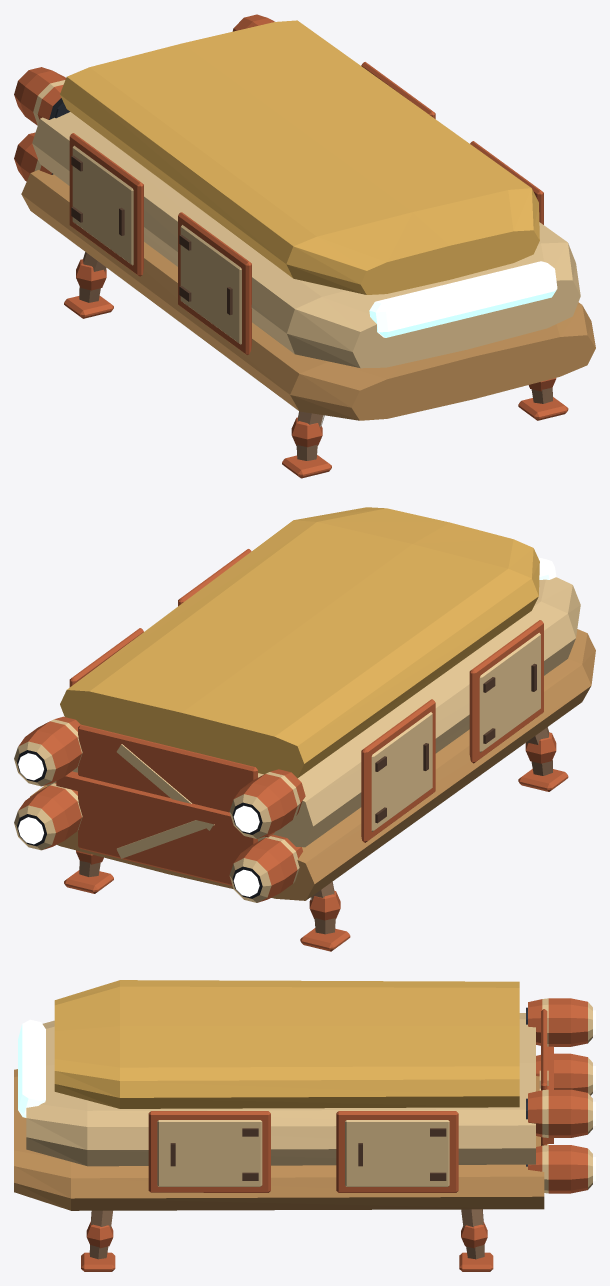
Rendered from dun-f_gelandet.glb.
The picture shows the model from 3 angles, top to bottom: view 1: azimuth 30°, elevation 25°; view 2: azimuth 150°, elevation 25°; view 3: azimuth 270°, elevation 25°; orthographic projection. The views are drawn at different scales.
Visible parts, largest first — view 1: rumpf_oben, rumpf_mitte, rumpf_unten, frachttür_4, cockpit, frachttür_3, triebwerk_2, landebein_2, landebein_4, landebein_1, triebwerk_4; view 2: rumpf_oben, rampe, rumpf_mitte, rumpf_unten, frachttür_4, frachttür_3, triebwerk_2, triebwerk_4, triebwerk_1, triebwerk_3, heckrahmen, landebein_4 (+3 smaller); view 3: rumpf_oben, rumpf_mitte, rumpf_unten, frachttür_1, frachttür_2, triebwerk_1, triebwerk_2, triebwerk_3, cockpit, landebein_3, landebein_1, triebwerk_4 (+1 smaller).
Part boxes in pixels (bbox=[...]): rumpf_oben: bbox=[60, 20, 539, 294]; rumpf_mitte: bbox=[32, 112, 580, 368]; rumpf_unten: bbox=[21, 170, 595, 420]; frachttür_4: bbox=[69, 133, 143, 276]; cockpit: bbox=[369, 261, 557, 337]; frachttür_3: bbox=[178, 212, 251, 354]; triebwerk_2: bbox=[14, 67, 69, 125]; landebein_2: bbox=[282, 411, 331, 478]; landebein_4: bbox=[64, 252, 113, 318]; landebein_1: bbox=[518, 378, 568, 420]; triebwerk_4: bbox=[14, 132, 53, 181]; rumpf_oben: bbox=[60, 507, 539, 778]; rampe: bbox=[78, 724, 257, 885]; rumpf_mitte: bbox=[46, 577, 580, 847]; rumpf_unten: bbox=[30, 629, 595, 900]; frachttür_4: bbox=[361, 699, 435, 842]; frachttür_3: bbox=[469, 620, 543, 763]; triebwerk_2: bbox=[229, 769, 305, 838]; triebwerk_4: bbox=[229, 834, 302, 902]; triebwerk_1: bbox=[14, 716, 82, 786]; triebwerk_3: bbox=[14, 783, 82, 850]; heckrahmen: bbox=[56, 771, 274, 837]; landebein_4: bbox=[300, 882, 350, 951]; rumpf_oben: bbox=[54, 980, 519, 1108]; rumpf_mitte: bbox=[26, 1013, 535, 1166]; rumpf_unten: bbox=[14, 1069, 544, 1210]; frachttür_1: bbox=[148, 1111, 270, 1192]; frachttür_2: bbox=[336, 1111, 458, 1192]; triebwerk_1: bbox=[526, 1089, 595, 1137]; triebwerk_2: bbox=[526, 998, 595, 1046]; triebwerk_3: bbox=[526, 1145, 595, 1193]; cockpit: bbox=[18, 1019, 45, 1117]; landebein_3: bbox=[459, 1209, 493, 1271]; landebein_1: bbox=[81, 1210, 115, 1271]; triebwerk_4: bbox=[536, 1053, 595, 1095].
Size of the model in its own units: 0.0943 by 0.0642 by 0.1784.
